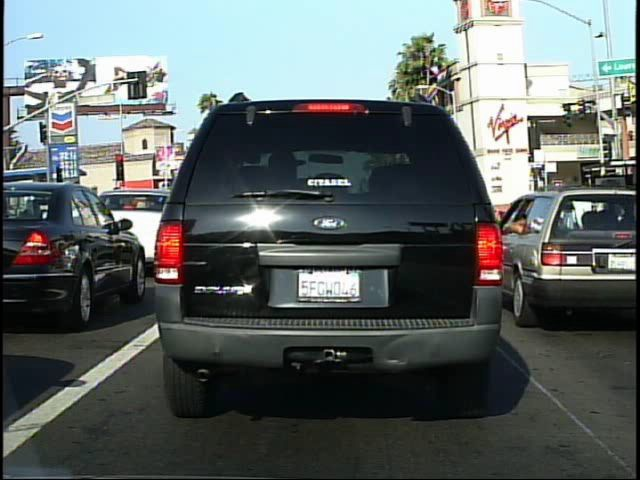person: (589, 184, 617, 240), (560, 182, 581, 238)
